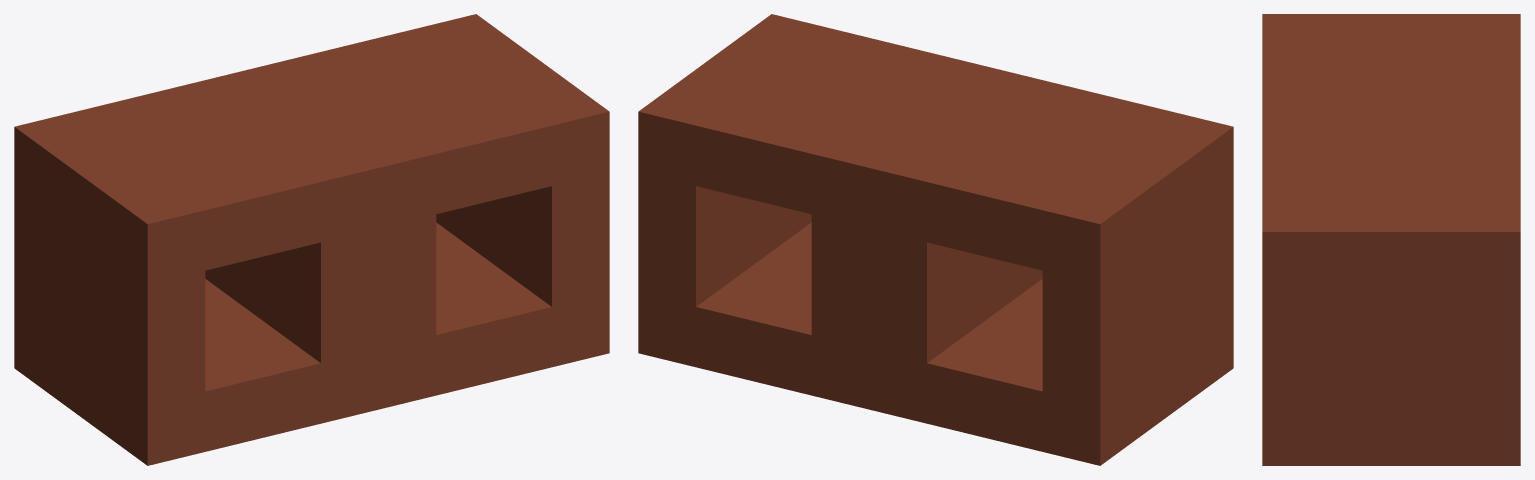
Rendered from Brick resource.fbx.
3 views of the same model, side by side, from view 1: azimuth 30°, elevation 25°; view 2: azimuth 150°, elevation 25°; view 3: azimuth 270°, elevation 25° (orthographic). The views are drawn at different scales.
Visible parts, largest first — view 1: Cube; view 2: Cube; view 3: Cube.
Boxes of the visible parts, box(x1,y1,x2,y2) form: Cube: box(14, 14, 609, 465); Cube: box(638, 14, 1233, 465); Cube: box(1262, 14, 1520, 465).
Size of the model in its own units: 400 by 200 by 200.
